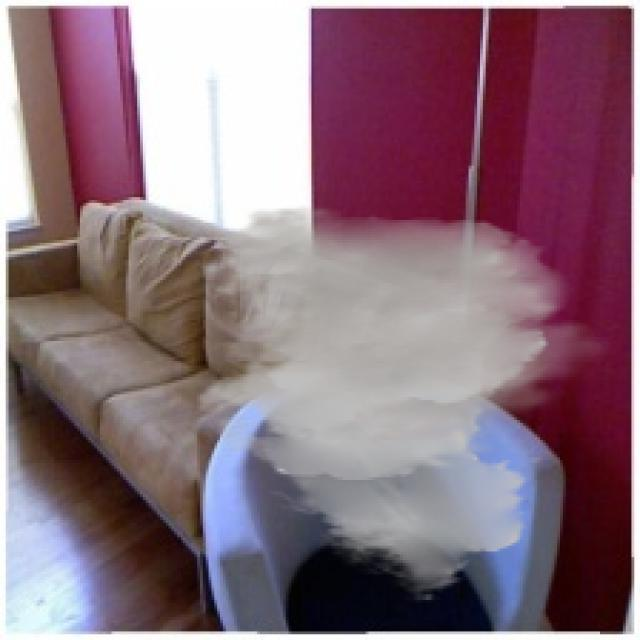Smoke: (194, 206, 617, 603)
